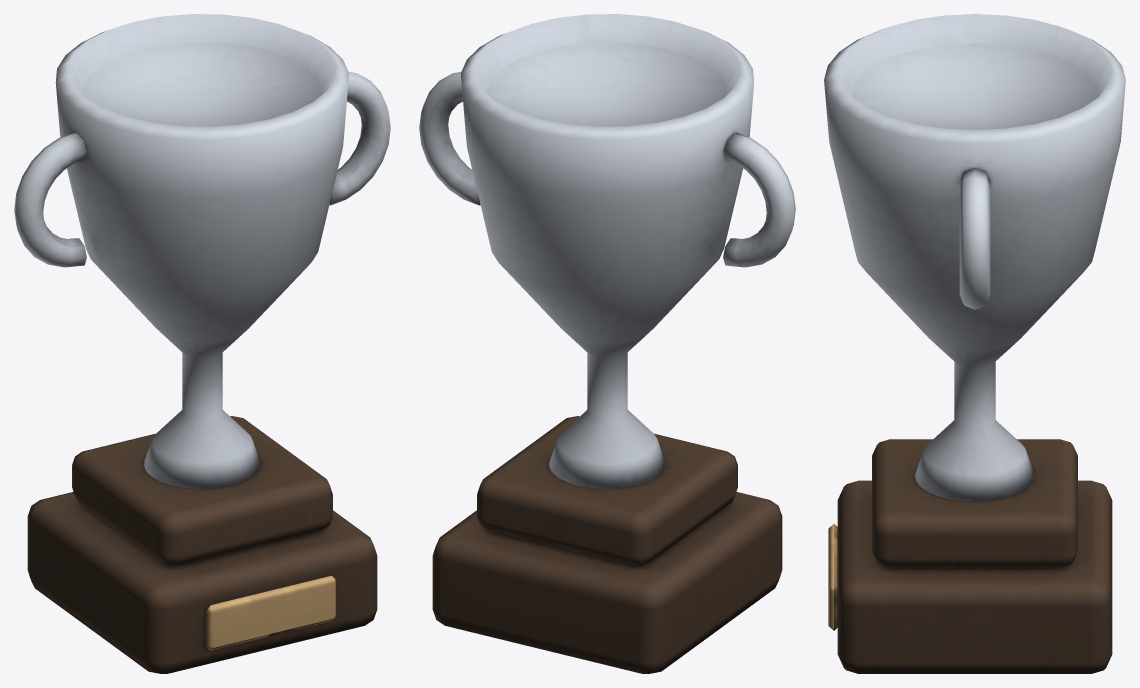
The model's file is trophy_silver.glb.
3 views of the same model, side by side, from view 1: azimuth 30°, elevation 25°; view 2: azimuth 150°, elevation 25°; view 3: azimuth 270°, elevation 25° (orthographic). The views are drawn at different scales.
Parts seen in each view (by area): view 1: trophy_silver; view 2: trophy_silver; view 3: trophy_silver.
Part boxes in pixels (<box>): trophy_silver: <box>14,14,390,673</box>; trophy_silver: <box>419,14,795,673</box>; trophy_silver: <box>824,14,1125,673</box>.
Size of the model in its own units: 0.2322 by 0.3195 by 0.1584.
3 materials, 3 textured.
